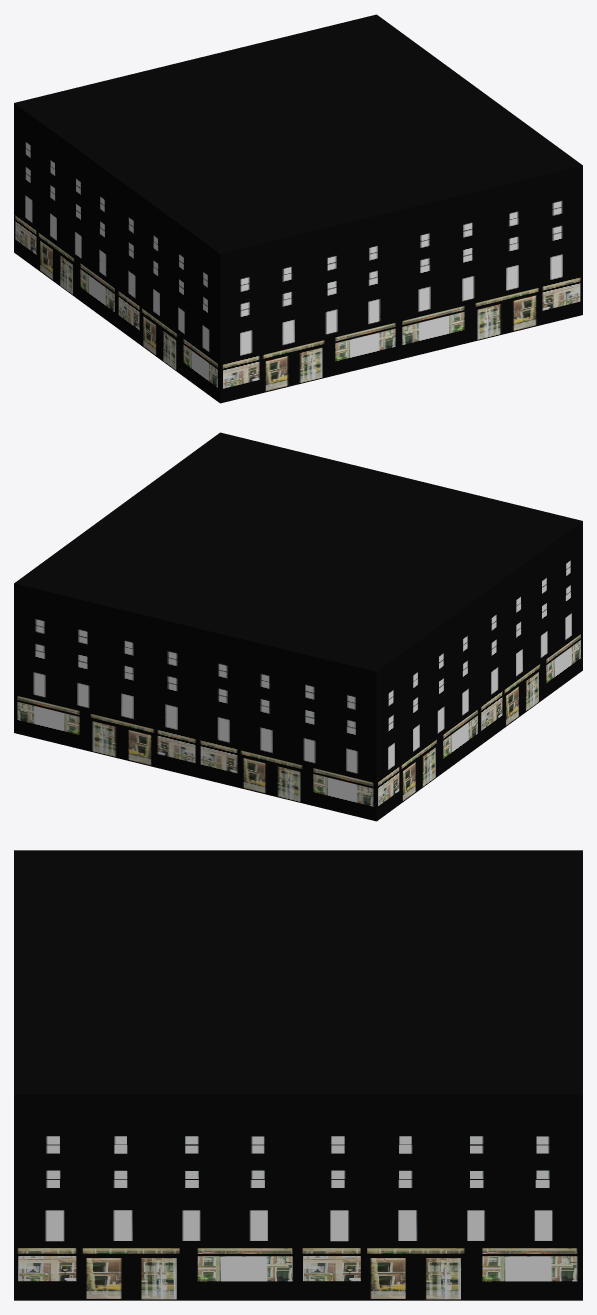
The model's file is building15.FBX.
The picture shows the model from 3 angles, top to bottom: view 1: azimuth 30°, elevation 25°; view 2: azimuth 150°, elevation 25°; view 3: azimuth 270°, elevation 25°; orthographic projection. The views are drawn at different scales.
Parts seen in each view (by area): view 1: Box001; view 2: Box001; view 3: Box001.
Boxes of the visible parts, x1,y1,x2,y2 form: Box001: (14, 14, 582, 403); Box001: (14, 432, 582, 821); Box001: (14, 850, 582, 1300).
Size of the model in its own units: 102 by 40 by 100.
